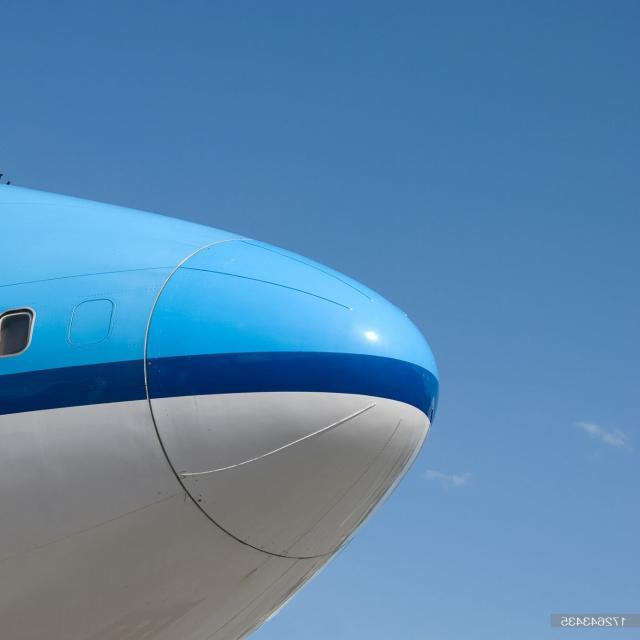crack: (181, 491, 194, 508)
